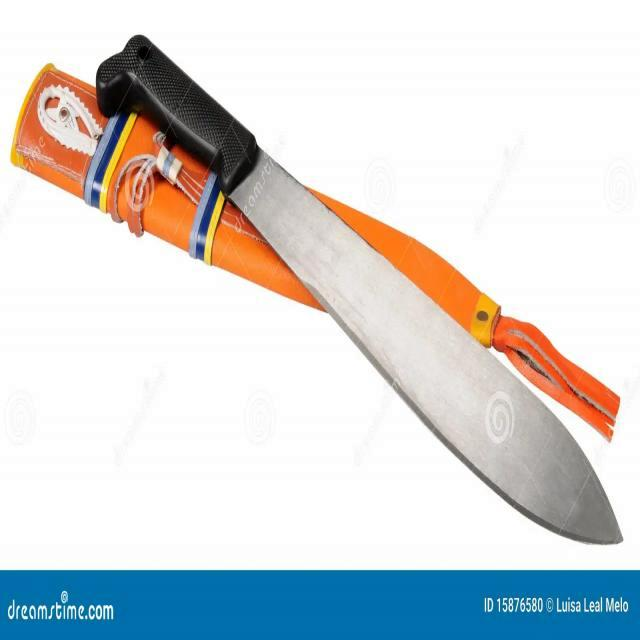long knife: (94, 29, 626, 561)
